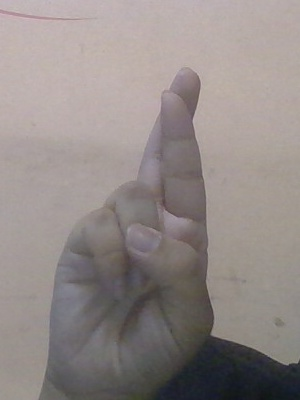R: (47, 52, 224, 379)
